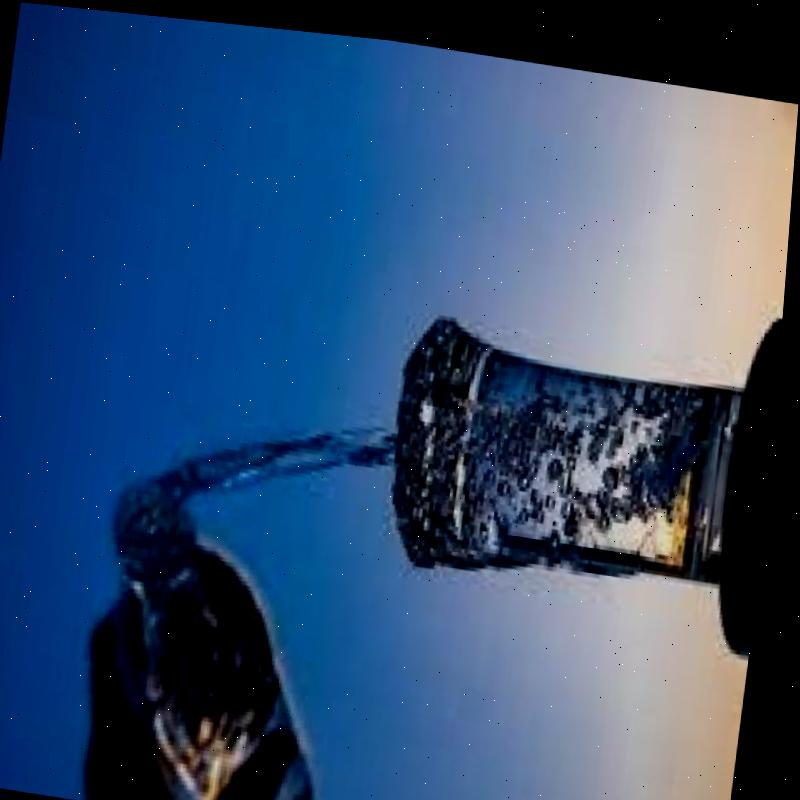botella: (87, 455, 361, 800)
